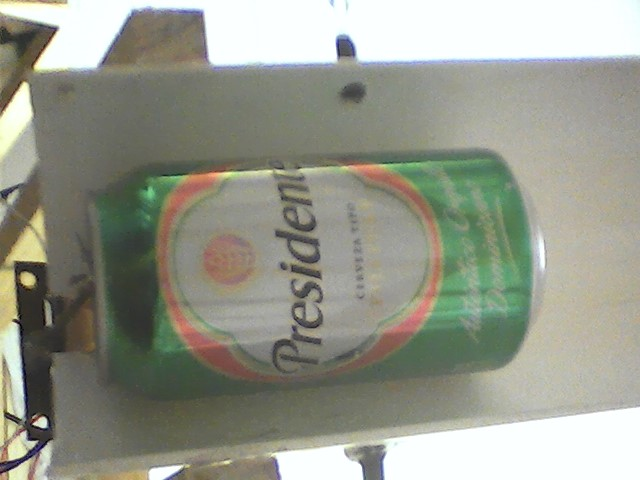lata: (76, 144, 558, 410)
